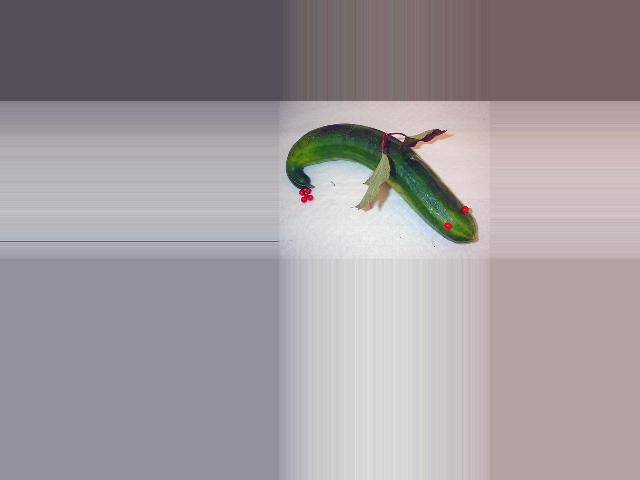cucumber: (285, 123, 475, 243)
